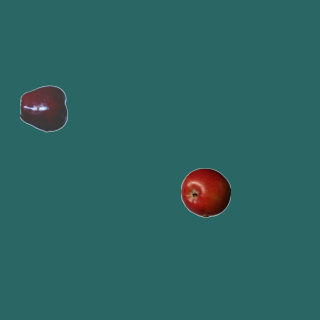Apple Braeburn: (180, 167, 230, 217)
Apple Red Delicious: (19, 83, 69, 133)
